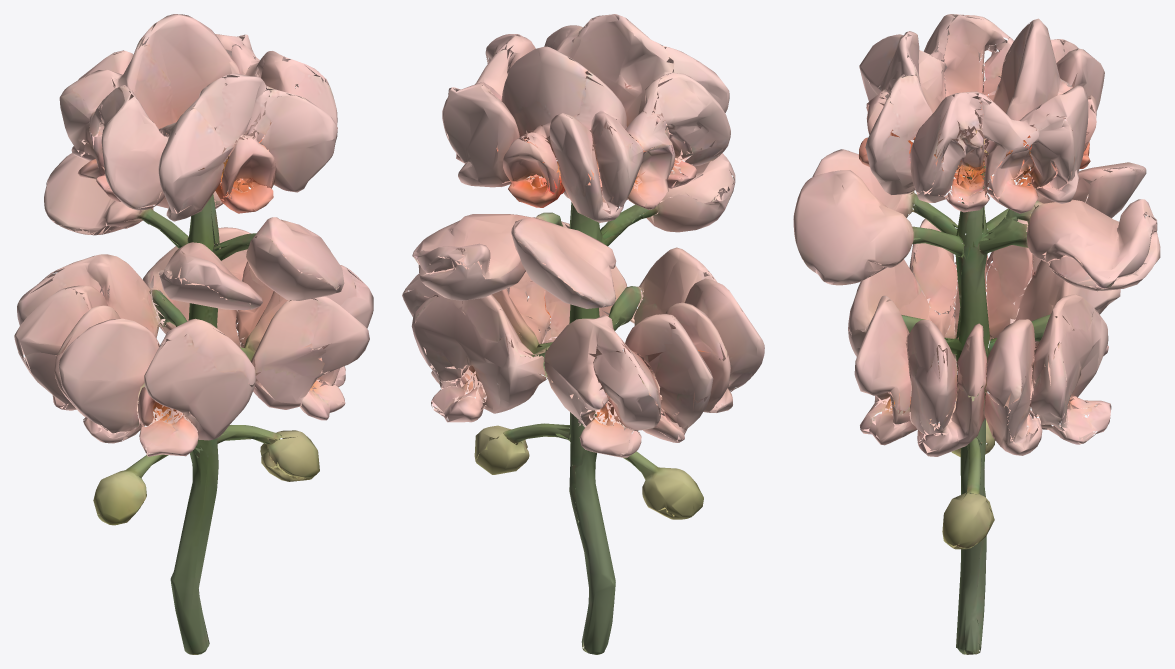
The model's file is pink_orchid.glb.
3 views of the same model, side by side, from view 1: azimuth 30°, elevation 25°; view 2: azimuth 150°, elevation 25°; view 3: azimuth 270°, elevation 25° (orthographic). The views are drawn at different scales.
Parts seen in each view (by area): view 1: model; view 2: model; view 3: model.
Boxes of the visible parts, left/top/right/bottom form: model: left=14, top=14, right=373, bottom=654; model: left=402, top=14, right=764, bottom=654; model: left=793, top=14, right=1160, bottom=654.
Size of the model in its own units: 1 by 1.86 by 0.9719.
1 material, 1 textured.
